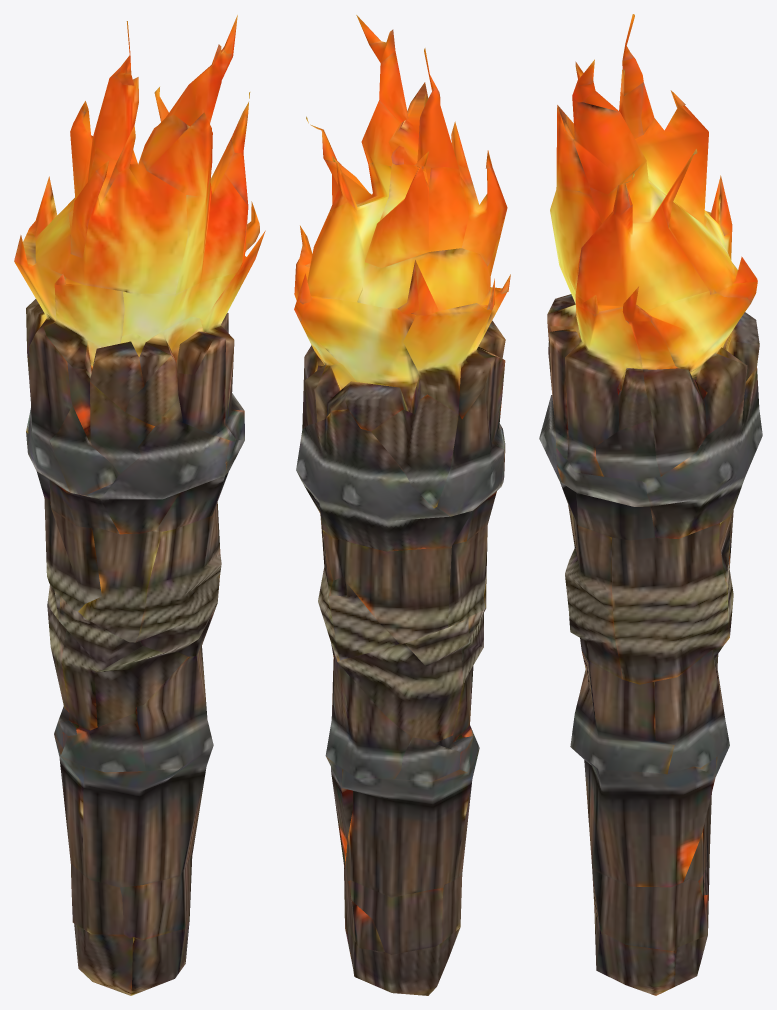
The model's file is torch.glb.
The picture shows the model from 3 angles, left to right: view 1: azimuth 30°, elevation 25°; view 2: azimuth 150°, elevation 25°; view 3: azimuth 270°, elevation 25°; orthographic projection. The views are drawn at different scales.
Bounding box in the file's own units: 0.4466 × 1.9 × 0.399.
Materials: 1 (1 with a texture image).
